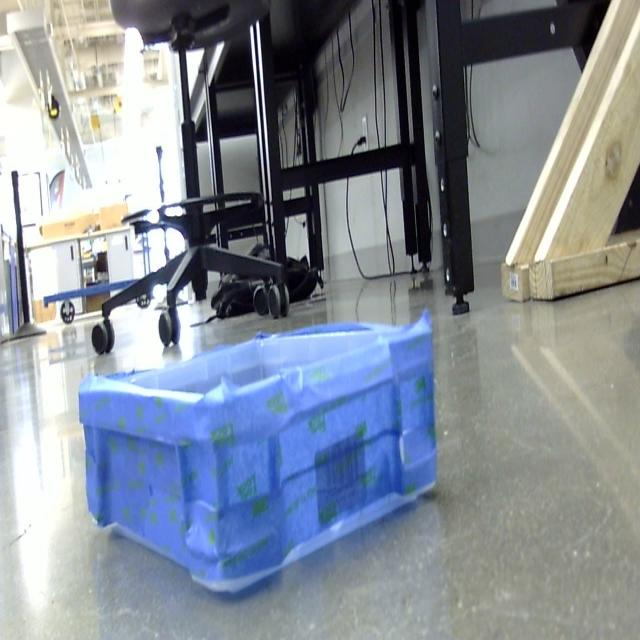bucket: (76, 313, 438, 602)
